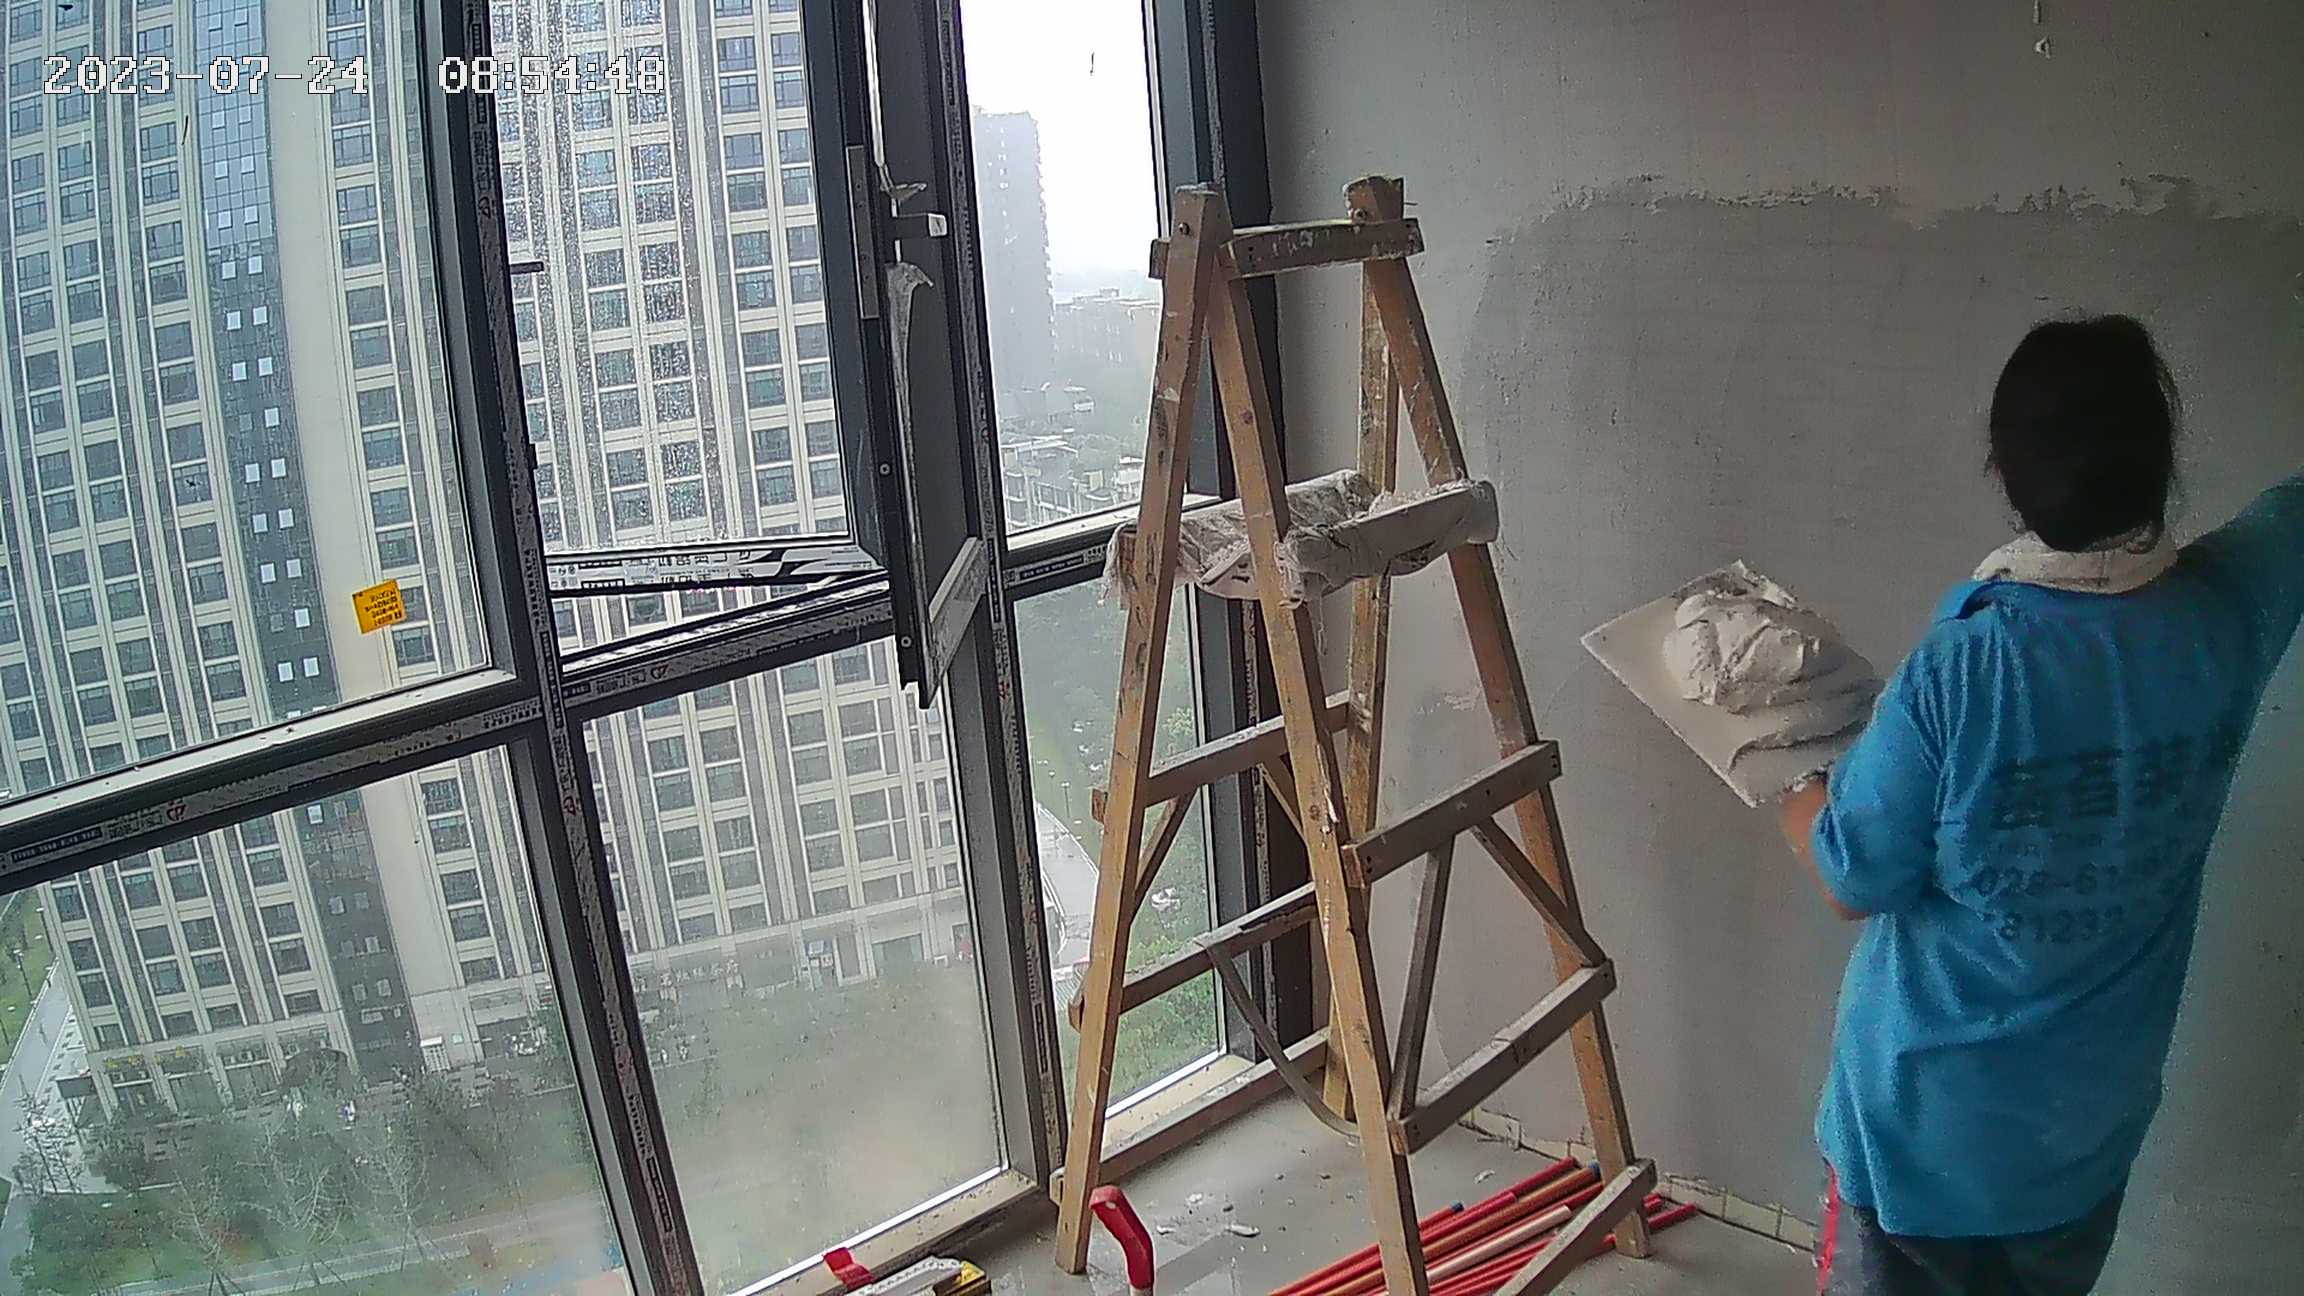people: (1775, 314, 2303, 1296)
window: (4, 3, 1290, 1296)
